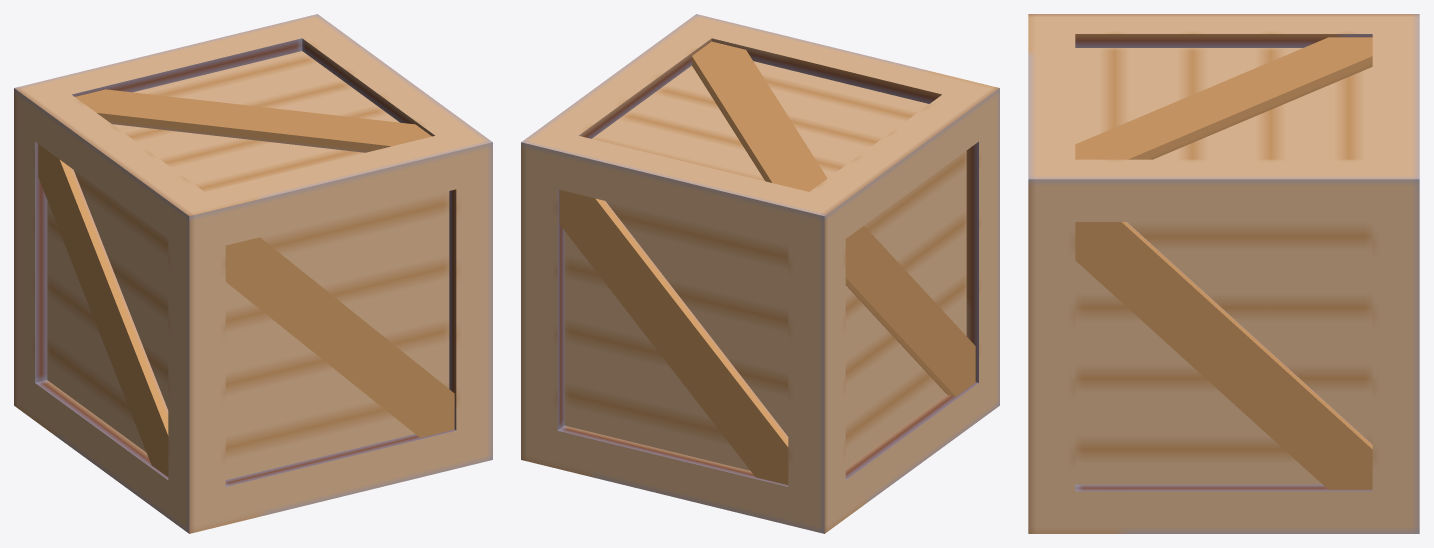
File: crate.FBX
3 views of the same model, side by side, from view 1: azimuth 30°, elevation 25°; view 2: azimuth 150°, elevation 25°; view 3: azimuth 270°, elevation 25° (orthographic). The views are drawn at different scales.
Parts seen in each view (by area): view 1: crate; view 2: crate; view 3: crate.
Part boxes in pixels (x1=…): crate: x1=14, y1=14, x2=492, y2=533; crate: x1=521, y1=14, x2=999, y2=533; crate: x1=1028, y1=14, x2=1419, y2=533.
Bounding box in the file's own units: 100 × 100 × 100.
